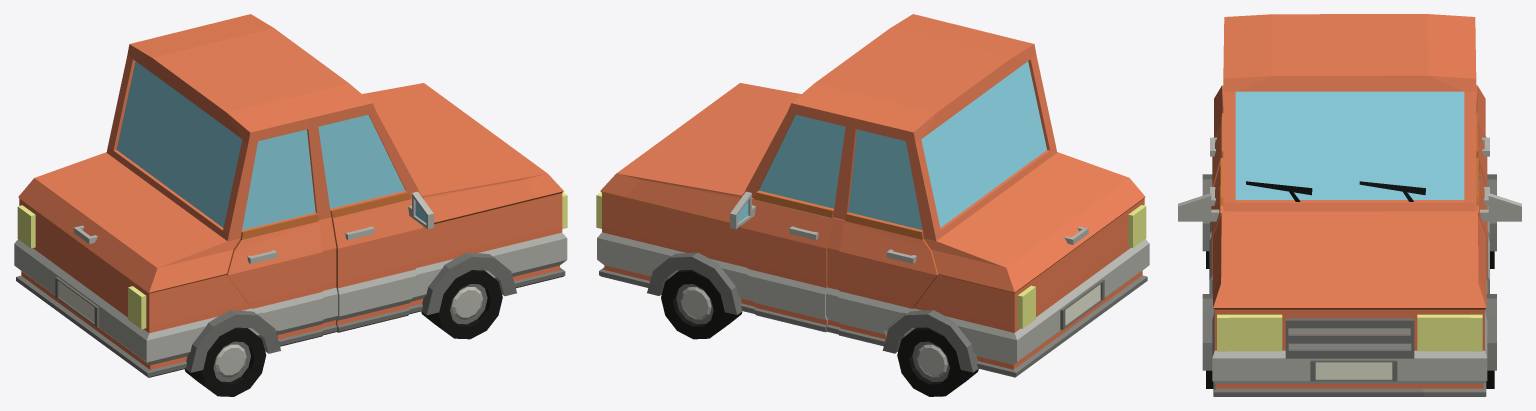
The model's file is car-low-poly.gltf.
The picture shows the model from 3 angles, left to right: view 1: azimuth 30°, elevation 25°; view 2: azimuth 150°, elevation 25°; view 3: azimuth 270°, elevation 25°; orthographic projection. The views are drawn at different scales.
Parts seen in each view (by area): view 1: Cube.8231; view 2: Cube.8231; view 3: Cube.8231.
Boxes of the visible parts, bbox=[...] form: Cube.8231: bbox=[14, 14, 567, 396]; Cube.8231: bbox=[596, 14, 1149, 396]; Cube.8231: bbox=[1178, 14, 1521, 396].
Size of the model in its own units: 4.82 by 2.76 by 3.25.
Materials: 1 (1 with a texture image).
